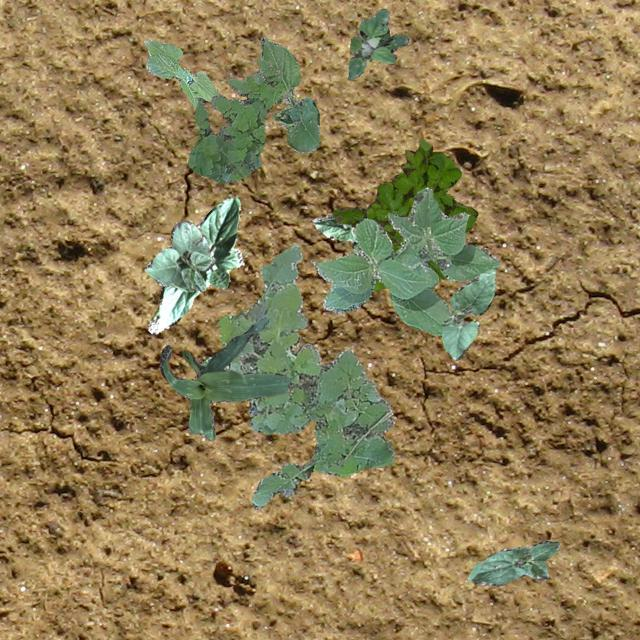crop: (312, 187, 498, 336), (158, 316, 294, 439), (148, 195, 242, 332), (258, 36, 318, 152), (143, 38, 220, 106), (144, 220, 214, 290), (440, 268, 494, 358), (467, 540, 558, 586), (312, 214, 358, 252)
weed: (200, 243, 393, 508), (332, 136, 476, 290), (186, 59, 282, 182), (347, 8, 408, 78)
